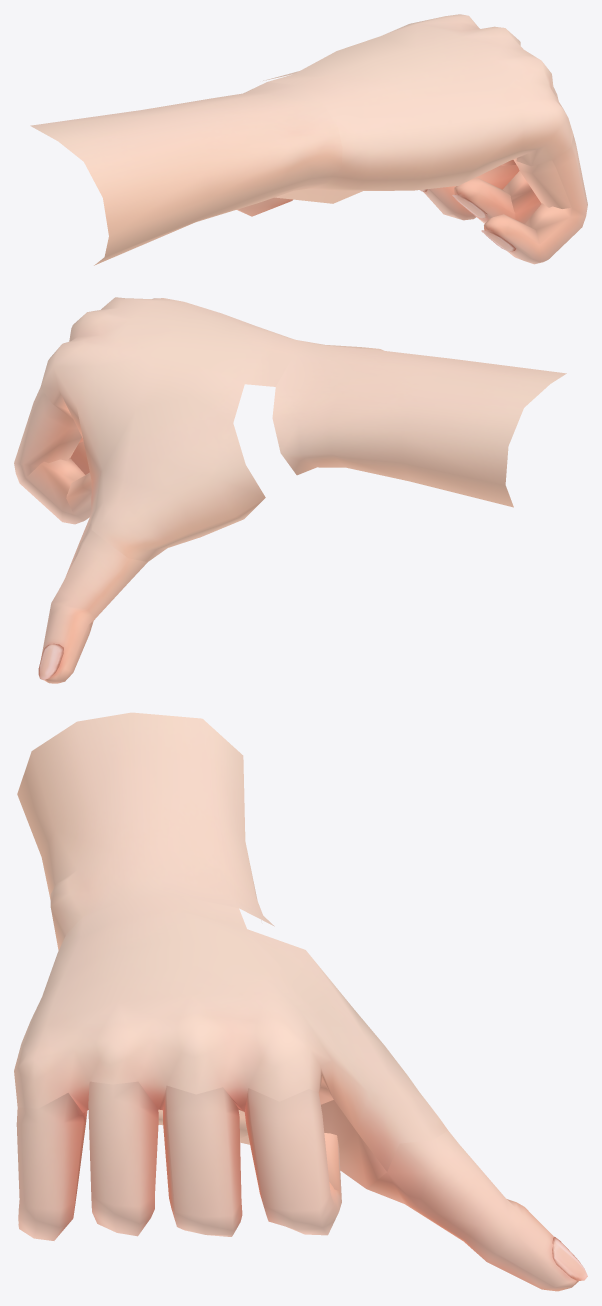
File: fist.glb
3 renders of one model, top to bottom at view 1: azimuth 30°, elevation 25°; view 2: azimuth 150°, elevation 25°; view 3: azimuth 270°, elevation 25°, orthographic. The views are drawn at different scales.
Visible parts, largest first — view 1: VRoid_Fist; view 2: VRoid_Fist; view 3: VRoid_Fist.
Boxes of the visible parts, x1=… form: VRoid_Fist: x1=30, y1=14, x2=587, y2=265; VRoid_Fist: x1=14, y1=297, x2=566, y2=683; VRoid_Fist: x1=14, y1=712, x2=587, y2=1291.
Size of the model in its own units: 0.34 by 0.1804 by 0.2645.
Materials: 1 (1 with a texture image).
